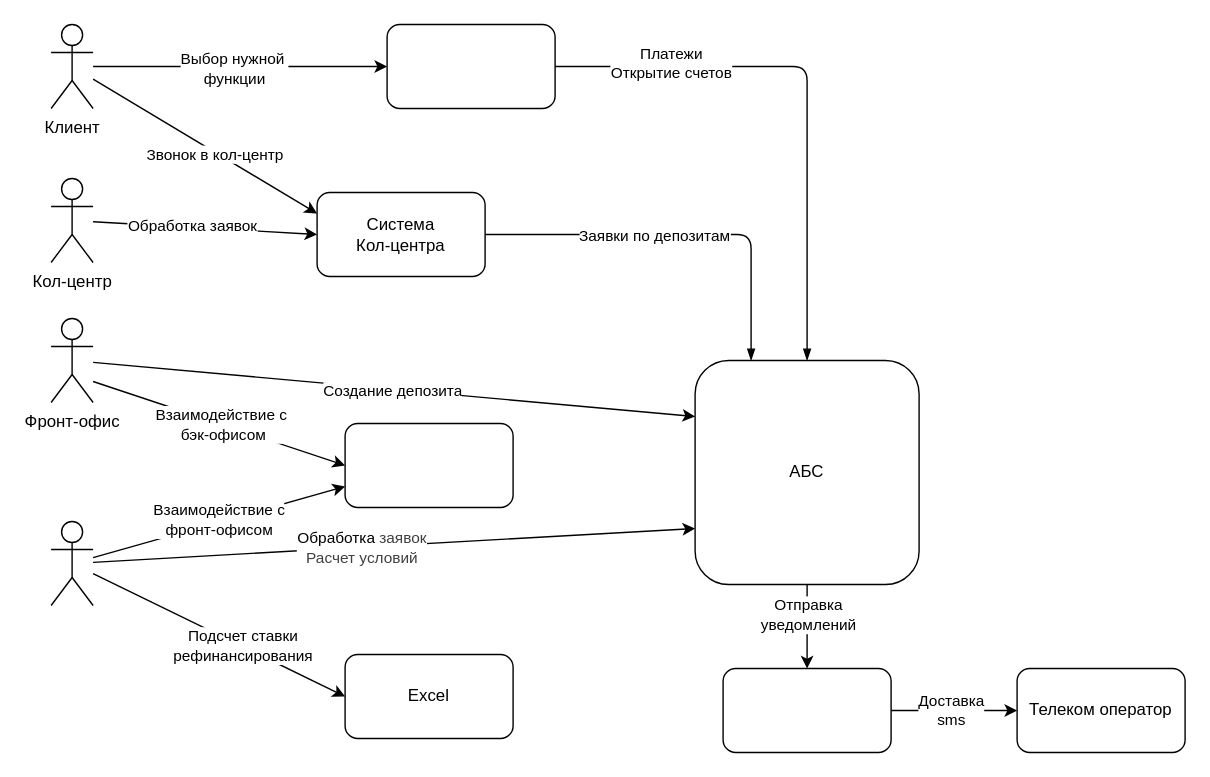
Image size: 1210x777. Some labels were removed from this diagram. Here are the shapes that lost their labels. From the top down, the centre of each, then its label:
At point 470,65: "Интернет-банк".
At point 428,464: "Email".
At point 71,563: "Бэк-офис".
At point 806,709: "SMS-шлюз".
